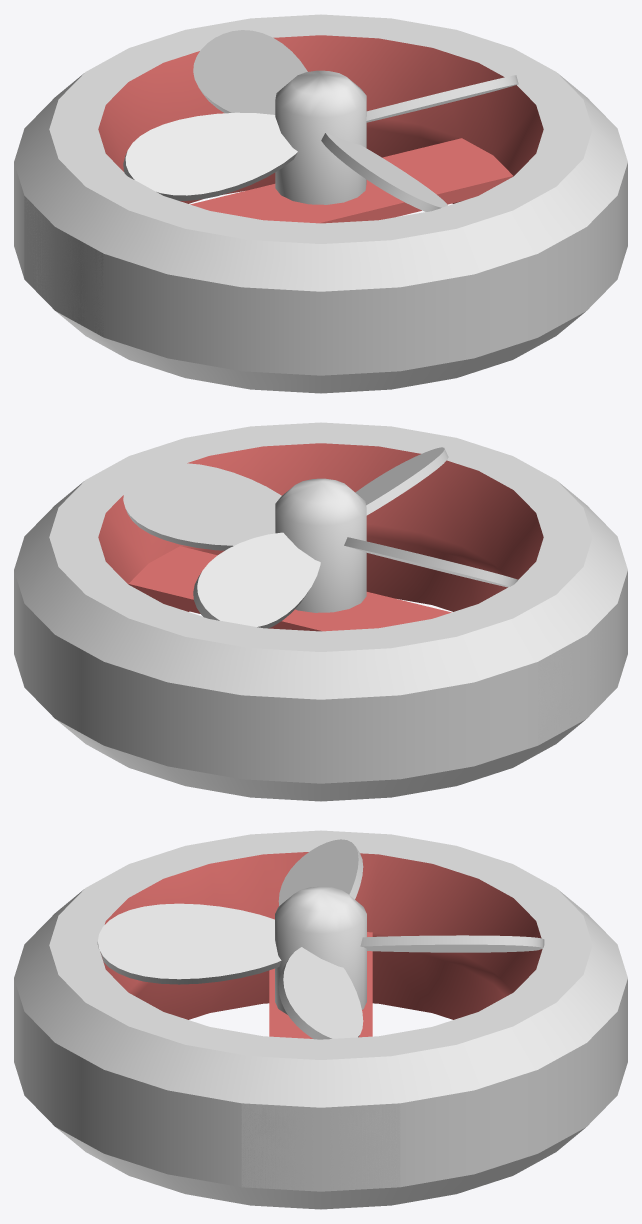
The model's file is Fan.fbx.
The picture shows the model from 3 angles, top to bottom: view 1: azimuth 30°, elevation 25°; view 2: azimuth 150°, elevation 25°; view 3: azimuth 270°, elevation 25°; orthographic projection.
Visible parts, largest first — view 1: Fan, Propeller; view 2: Fan, Propeller; view 3: Fan, Propeller.
Part boxes in pixels (left/top/right/bottom): Fan: left=14, top=14, right=627, bottom=393; Propeller: left=123, top=30, right=518, bottom=211; Fan: left=14, top=422, right=627, bottom=801; Propeller: left=123, top=447, right=517, bottom=628; Fan: left=14, top=830, right=627, bottom=1209; Propeller: left=97, top=839, right=544, bottom=1039.
Bounding box in the file's own units: 105 × 38.34 × 105.
